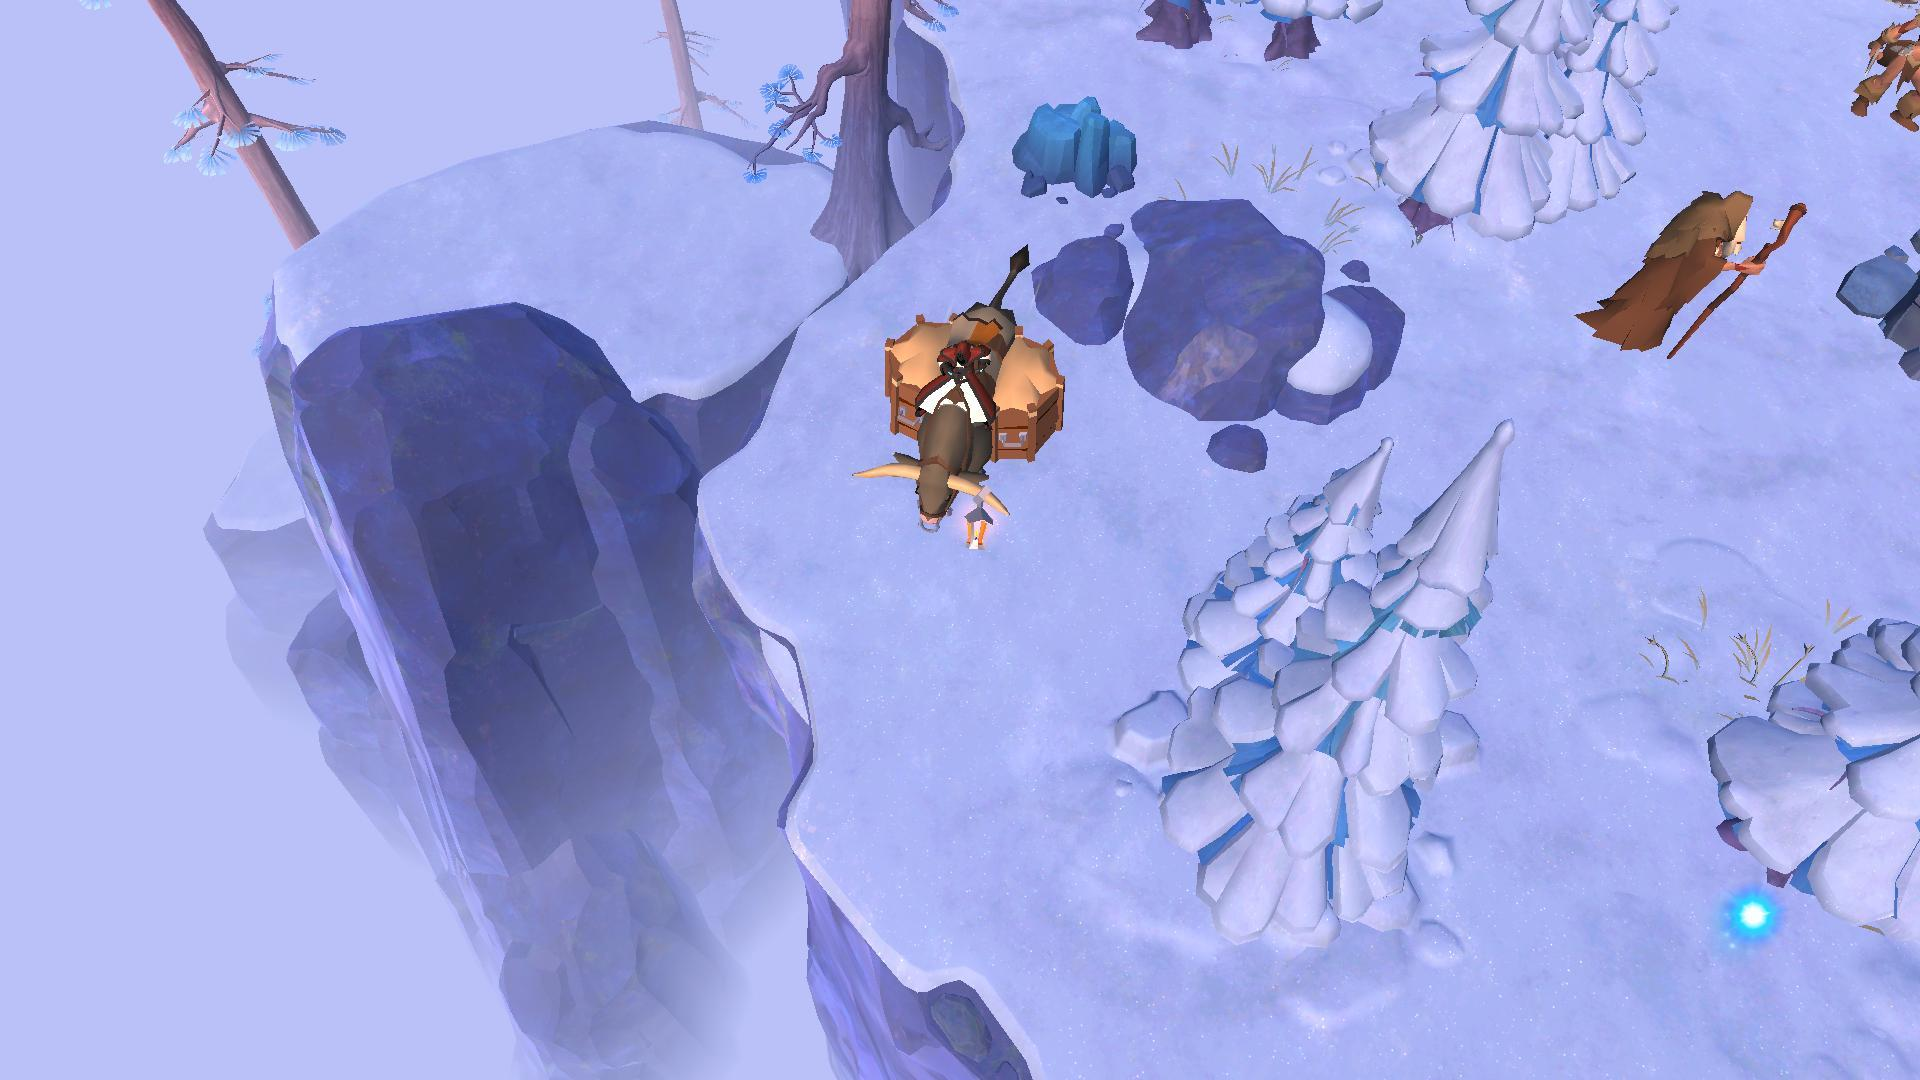enemy_factionKeeper: (1563, 190, 1816, 360), (1834, 11, 1920, 131)
rock_t4: (996, 98, 1138, 206)
